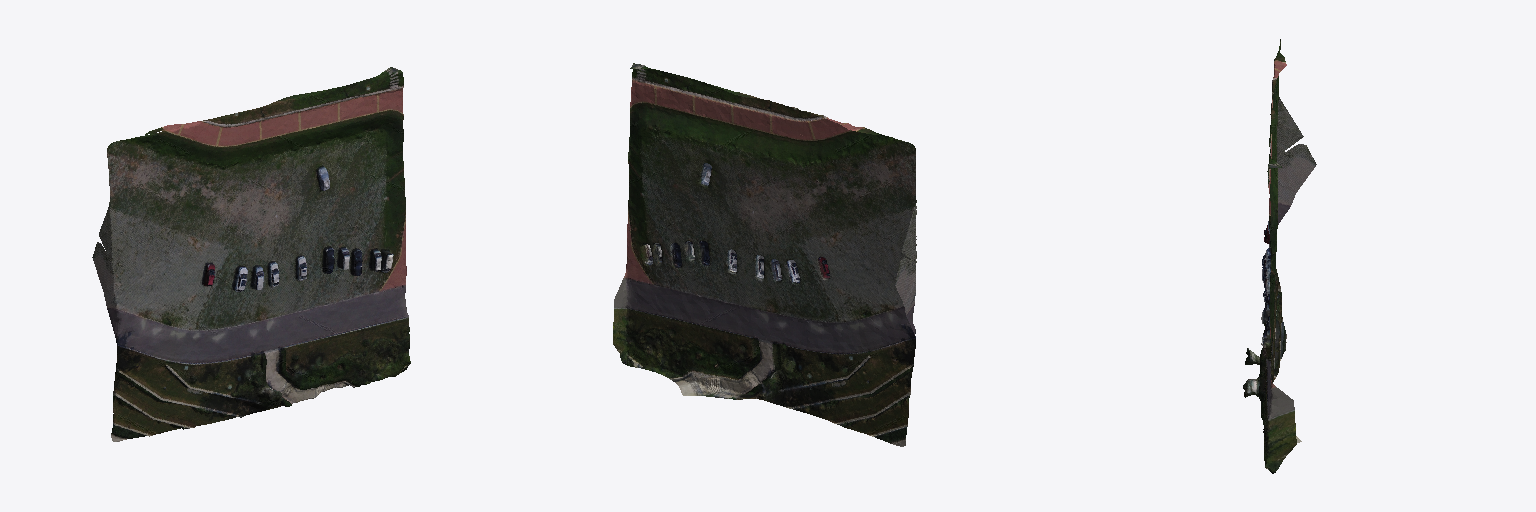
3 views of the same model, side by side, from view 1: azimuth 30°, elevation 25°; view 2: azimuth 150°, elevation 25°; view 3: azimuth 270°, elevation 25° (orthographic).
Visible parts, largest first — view 1: Mesh; view 2: Mesh; view 3: Mesh.
Part boxes in pixels (left/top/right/bottom): Mesh: left=92, top=67, right=410, bottom=441; Mesh: left=613, top=63, right=916, bottom=446; Mesh: left=1243, top=39, right=1316, bottom=473.
Bounding box in the file's own units: 61.57 × 61.55 × 13.22.
Materials: 1 (1 with a texture image).